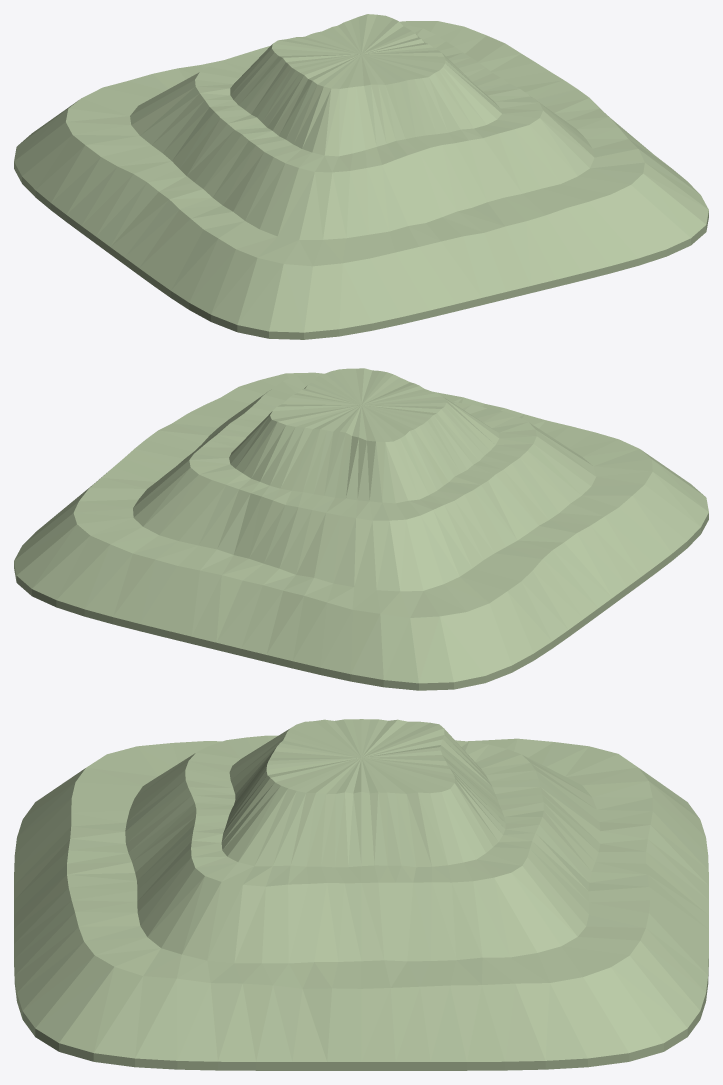
File: plateau_step.fbx
3 renders of one model, top to bottom at view 1: azimuth 30°, elevation 25°; view 2: azimuth 150°, elevation 25°; view 3: azimuth 270°, elevation 25°, orthographic. The views are drawn at different scales.
Parts seen in each view (by area): view 1: plateau_step; view 2: plateau_step; view 3: plateau_step.
Boxes of the visible parts, x1,y1,x2,y2 form: plateau_step: (14, 14, 708, 339); plateau_step: (14, 368, 708, 690); plateau_step: (14, 719, 708, 1070).
Bounding box in the file's own units: 36 × 9.56 × 36.
